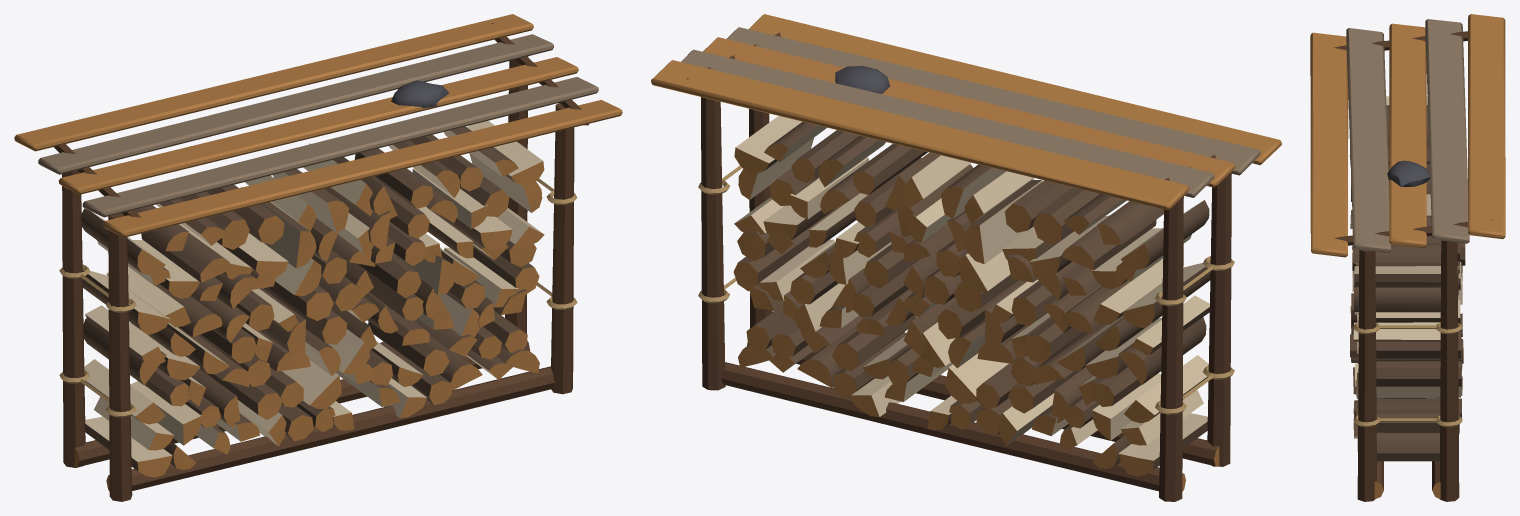
Rendered from deco_firewood_stack.fbx.
3 views of the same model, side by side, from view 1: azimuth 30°, elevation 25°; view 2: azimuth 150°, elevation 25°; view 3: azimuth 270°, elevation 25° (orthographic). The views are drawn at different scales.
Parts seen in each view (by area): view 1: Firewood_Stack_Logs, Firewood_Stack_Roof, Firewood_Stack_Posts; view 2: Firewood_Stack_Logs, Firewood_Stack_Roof, Firewood_Stack_Posts; view 3: Firewood_Stack_Roof, Firewood_Stack_Logs, Firewood_Stack_Posts.
Boxes of the visible parts, <box> form: Firewood_Stack_Logs: <box>81,120,544,477</box>; Firewood_Stack_Roof: <box>14,14,622,237</box>; Firewood_Stack_Posts: <box>59,56,577,501</box>; Firewood_Stack_Logs: <box>733,116,1210,476</box>; Firewood_Stack_Roof: <box>651,14,1281,210</box>; Firewood_Stack_Posts: <box>698,97,1234,501</box>; Firewood_Stack_Roof: <box>1310,14,1505,257</box>; Firewood_Stack_Logs: <box>1349,96,1465,461</box>; Firewood_Stack_Posts: <box>1353,240,1462,501</box>.
Bounding box in the file's own units: 300 × 182 × 114.
